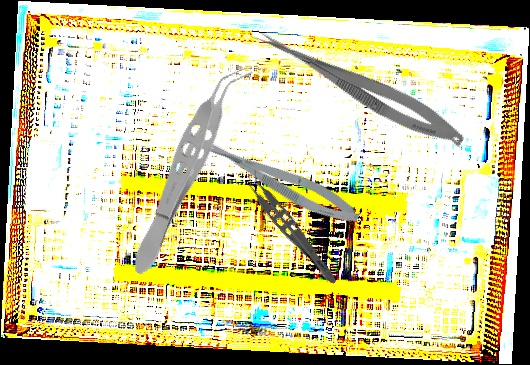Micro Scissor: (245, 22, 471, 154), (191, 125, 365, 233)
Tissue Forceps: (121, 55, 255, 282), (239, 167, 347, 288)
